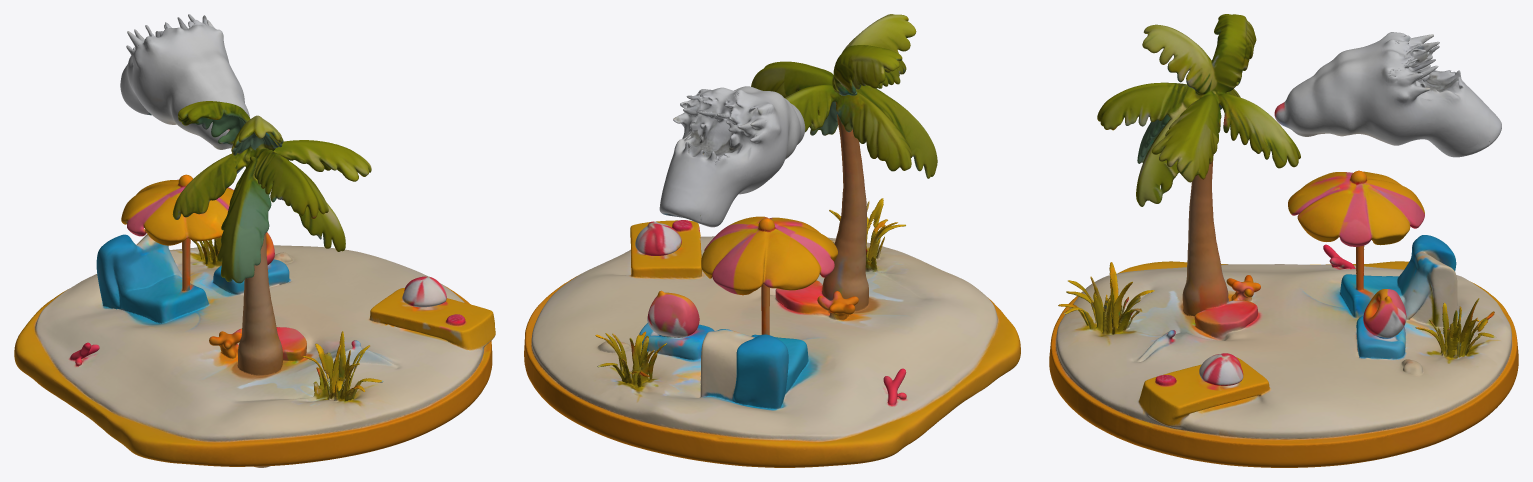
File: beach_bg.glb
The picture shows the model from 3 angles, left to right: view 1: azimuth 30°, elevation 25°; view 2: azimuth 150°, elevation 25°; view 3: azimuth 270°, elevation 25°; orthographic projection. The views are drawn at different scales.
Visible parts, largest first — view 1: tripo_node_dae2b67b-1d1f-4eed-8452-0f08e1171f2c; view 2: tripo_node_dae2b67b-1d1f-4eed-8452-0f08e1171f2c; view 3: tripo_node_dae2b67b-1d1f-4eed-8452-0f08e1171f2c.
Boxes of the visible parts, box(x1,y1,x2,y2) form: tripo_node_dae2b67b-1d1f-4eed-8452-0f08e1171f2c: box(14, 14, 495, 467); tripo_node_dae2b67b-1d1f-4eed-8452-0f08e1171f2c: box(524, 14, 1020, 467); tripo_node_dae2b67b-1d1f-4eed-8452-0f08e1171f2c: box(1049, 14, 1518, 467).
Size of the model in its own units: 0.9696 by 0.8883 by 1.
Materials: 1 (1 with a texture image).
